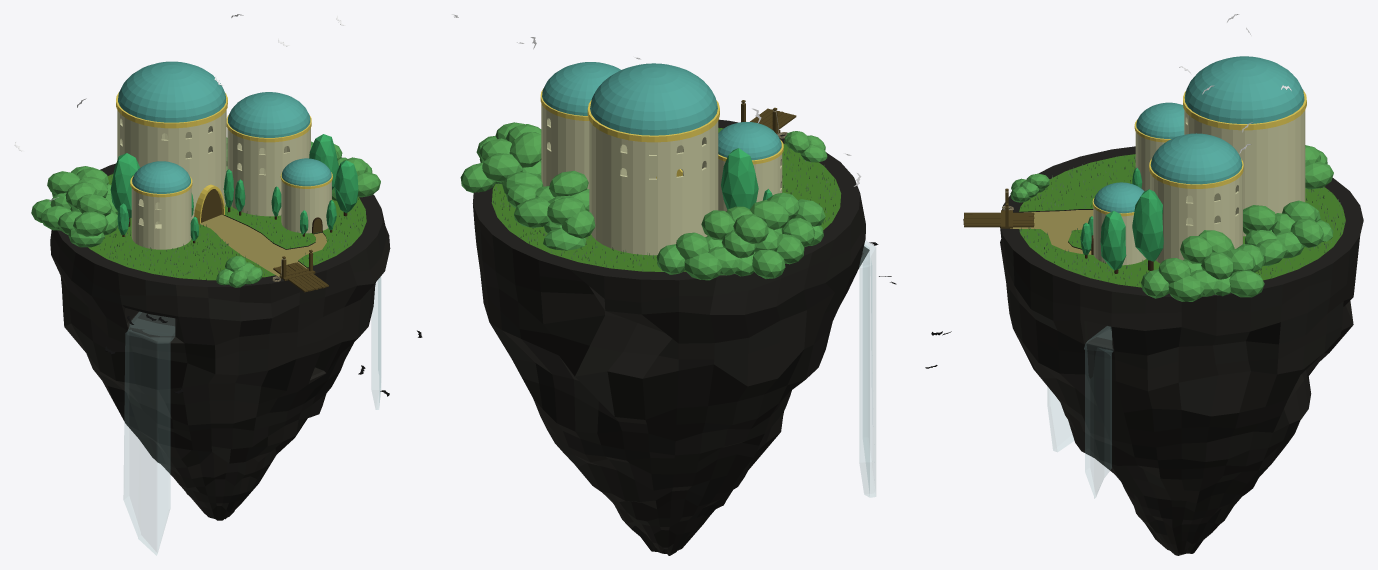
Rendered from floating_library.glb.
3 views of the same model, side by side, from view 1: azimuth 30°, elevation 25°; view 2: azimuth 150°, elevation 25°; view 3: azimuth 270°, elevation 25° (orthographic). The views are drawn at different scales.
Visible parts, largest first — view 1: gora, Cube.011, podloze, Cylinder, Sphere, Cylinder.001, Cylinder.002, Sphere.001, Cylinder.003, Sphere.002, drzewo.001, Sphere.003 (+8 smaller); view 2: gora, Cylinder, Sphere, podloze, Cube.011, Cylinder.001, Sphere.001, Sphere.002, drzewo.001, Cylinder.002, obrecz.001, Icosphere.043 (+18 smaller); view 3: gora, podloze, Sphere, Cylinder, Cylinder.001, Sphere.001, Cube.012, drzewo.003, Sphere.002, drzewo.002, Sphere.003, Cylinder.003 (+15 smaller).
Part boxes in pixels (<box>): gora: <box>50,163,390,520</box>; Cube.011: <box>123,312,174,555</box>; podloze: <box>88,173,366,280</box>; Cylinder: <box>117,110,226,219</box>; Sphere: <box>118,61,225,122</box>; Cylinder.001: <box>227,128,310,216</box>; Cylinder.002: <box>131,188,191,249</box>; Sphere.001: <box>228,92,310,137</box>; Cylinder.003: <box>281,180,331,233</box>; Sphere.002: <box>132,161,190,193</box>; drzewo.001: <box>110,153,139,217</box>; Sphere.003: <box>281,158,331,186</box>; gora: <box>472,119,869,555</box>; Cylinder: <box>589,121,718,255</box>; Sphere: <box>590,63,717,135</box>; podloze: <box>491,128,841,271</box>; Cube.011: <box>859,241,875,497</box>; Cylinder.001: <box>541,104,589,189</box>; Sphere.001: <box>542,62,620,115</box>; Sphere.002: <box>718,122,781,160</box>; drzewo.001: <box>721,148,758,209</box>; Cylinder.002: <box>718,154,782,211</box>; obrecz.001: <box>587,100,719,142</box>; Icosphere.043: <box>509,132,541,167</box>; gora: <box>1000,146,1363,555</box>; podloze: <box>1019,154,1345,287</box>; Sphere: <box>1184,56,1304,123</box>; Cylinder: <box>1184,110,1305,236</box>; Cylinder.001: <box>1150,173,1242,263</box>; Sphere.001: <box>1150,133,1242,184</box>; Cube.012: <box>1084,326,1112,498</box>; drzewo.003: <box>1132,189,1163,261</box>; Sphere.002: <box>1136,102,1184,138</box>; drzewo.002: <box>1100,211,1126,270</box>; Sphere.003: <box>1093,182,1144,213</box>; Cylinder.003: <box>1093,207,1146,265</box>.
Size of the model in its own units: 235 by 305 by 241.
